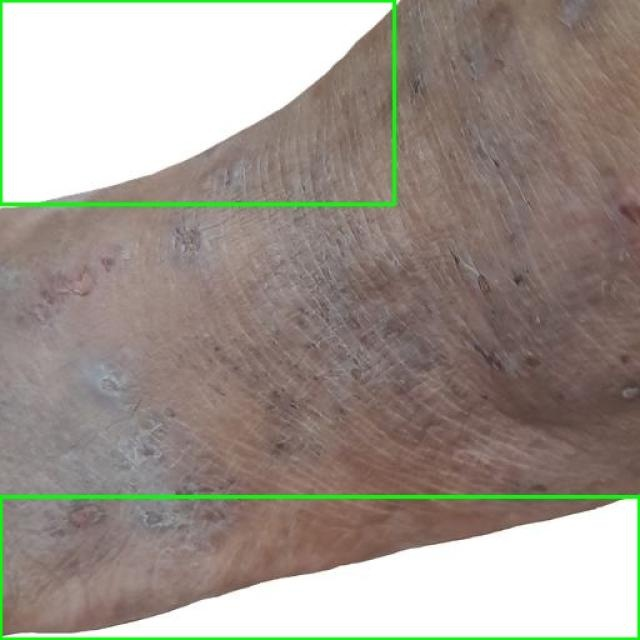Contact Dermatitis: (0, 496, 639, 639), (0, 0, 395, 205)
